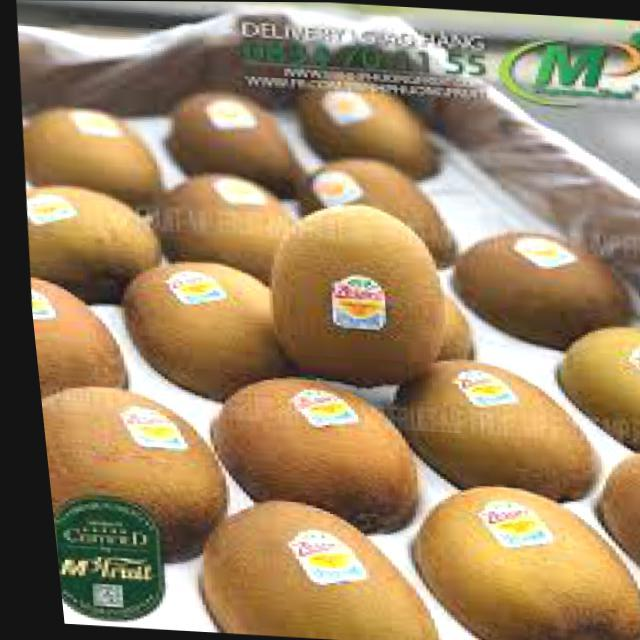kiwi: (388, 480, 640, 640), (176, 496, 447, 640), (189, 370, 424, 535), (252, 201, 451, 389), (33, 384, 232, 571), (374, 353, 605, 508), (436, 221, 640, 356), (107, 257, 294, 403), (288, 72, 451, 189), (297, 154, 460, 269), (20, 182, 165, 311), (156, 85, 307, 206), (156, 173, 302, 287), (18, 101, 168, 210), (24, 278, 132, 396), (545, 323, 640, 452)
